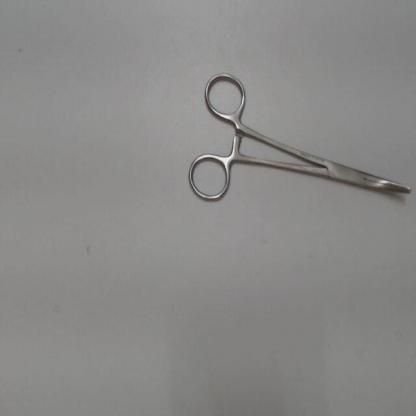Crile Artery Forceps: (185, 65, 414, 209)
